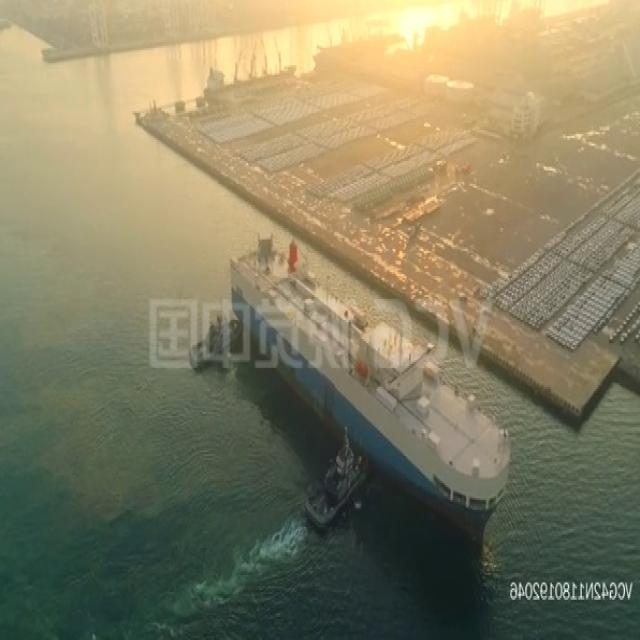cargoship: (231, 236, 511, 531)
houseboat: (304, 440, 368, 528), (186, 313, 239, 371)
